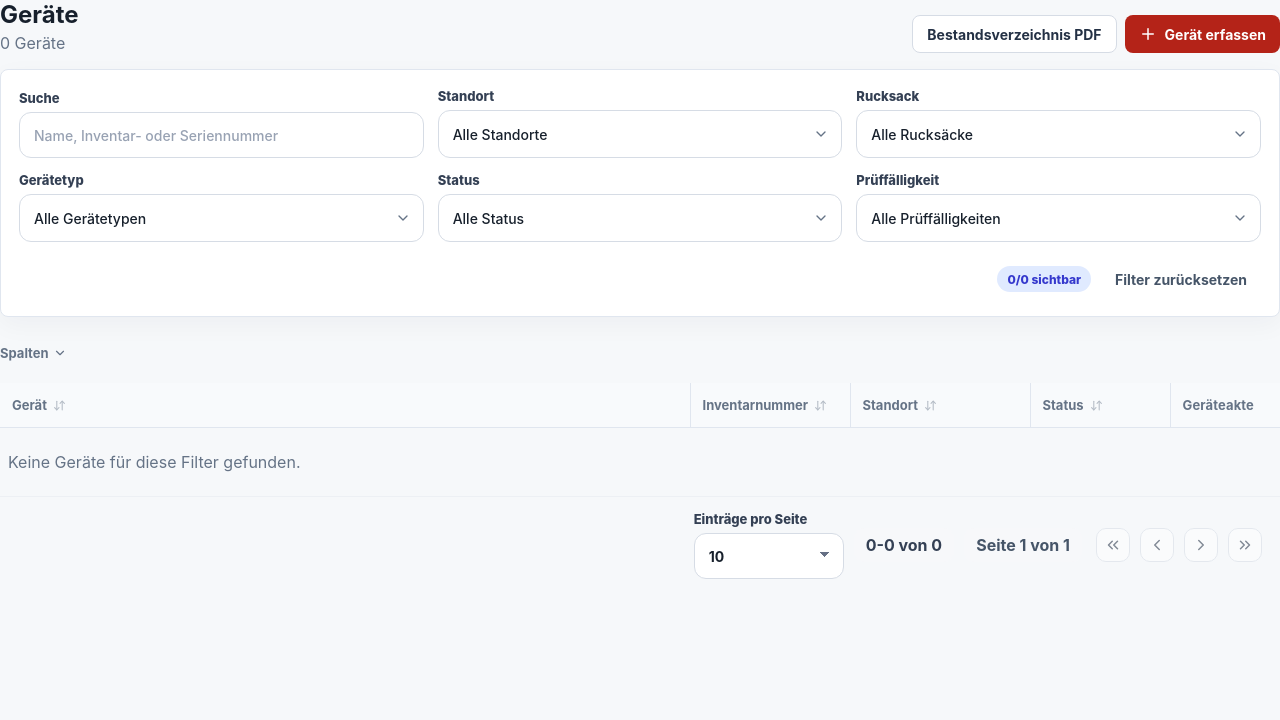
MPG page structure › opens device creation in a standard dialog without disclosure forms
Click the button "Gerät erfassen" at coordinates (1202, 34), box [1125, 15, 1279, 53]
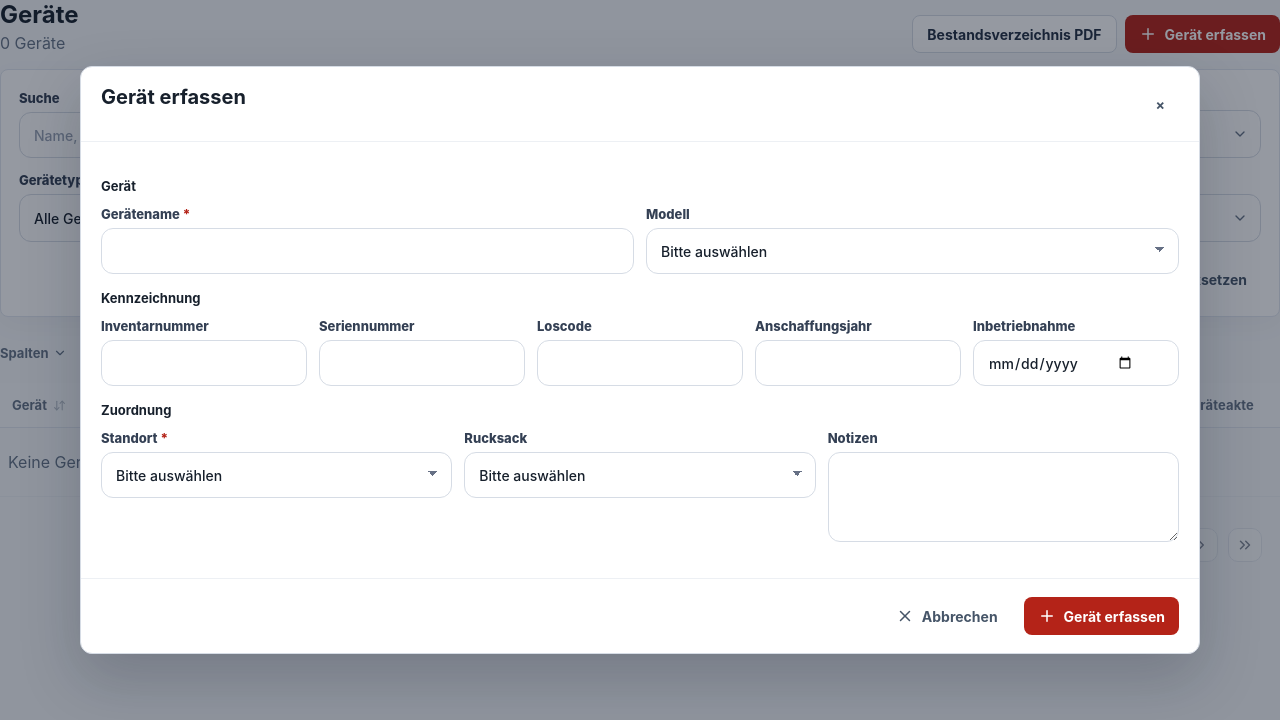
Result: the dialog "Gerät erfassen" is shown
Result: the field labelled "Loscode" is shown at [537, 340, 743, 386]
